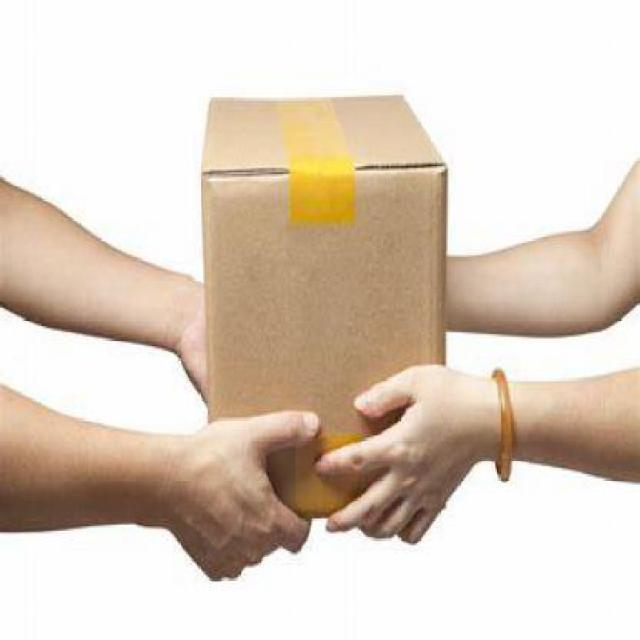box: (196, 95, 448, 520)
